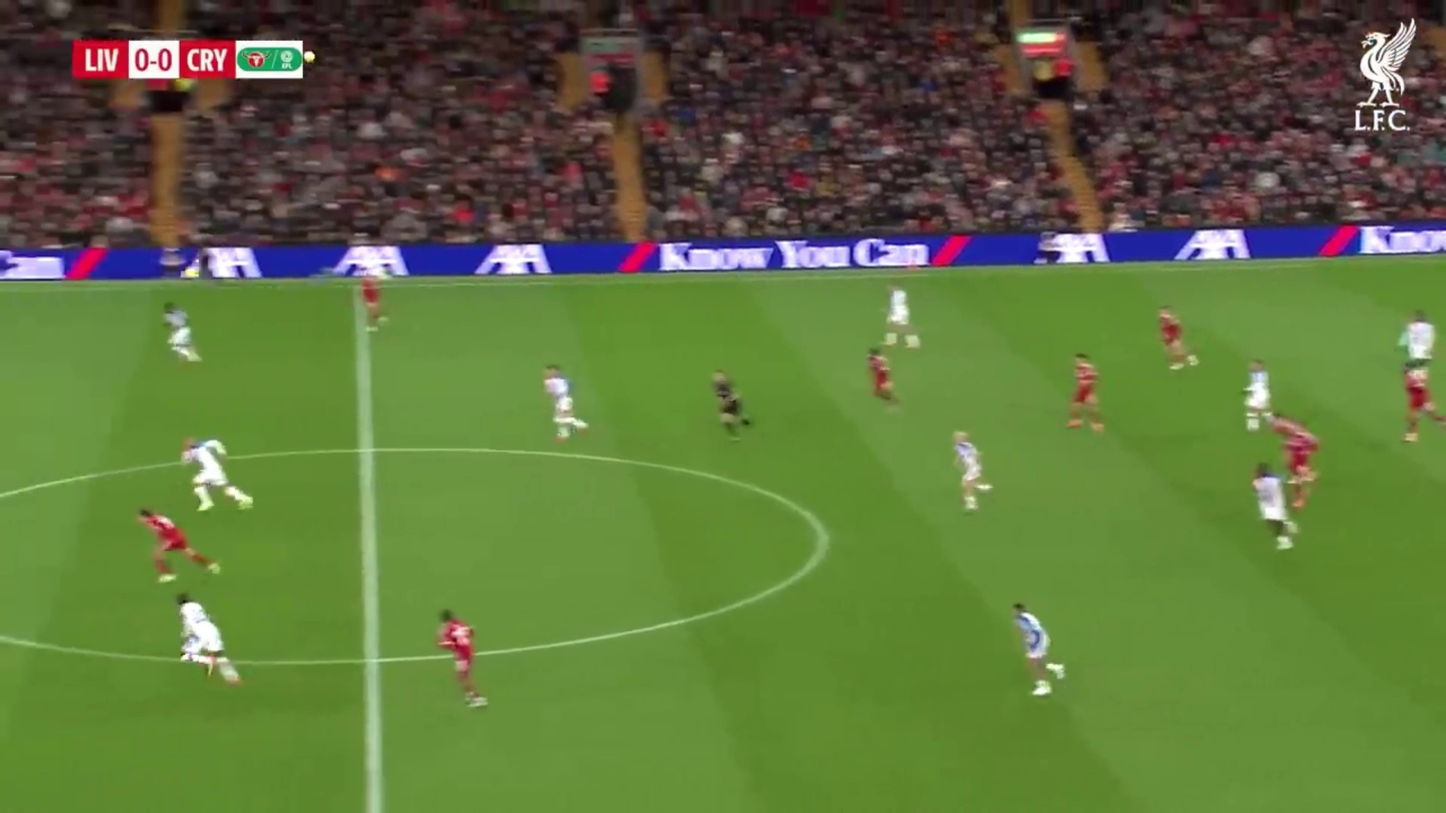player: (134, 508, 245, 685), (135, 508, 222, 580), (178, 598, 244, 686), (181, 437, 256, 513), (436, 609, 488, 711), (1011, 603, 1062, 698), (1250, 464, 1299, 549), (951, 429, 993, 513), (1064, 354, 1106, 433), (545, 366, 588, 442), (710, 370, 753, 434), (883, 286, 921, 352), (1157, 309, 1195, 371), (1242, 360, 1274, 432), (867, 349, 899, 406)
